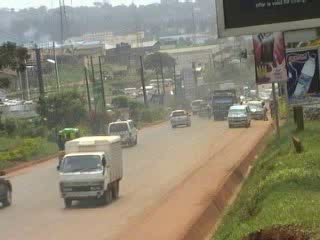Car: (0, 166, 15, 210), (168, 106, 193, 129), (197, 101, 212, 118)
Motorcycle: (204, 103, 213, 122)
